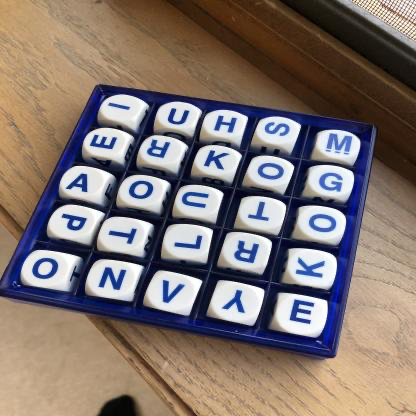a: (63, 169, 106, 199)
e: (278, 297, 328, 335), (86, 129, 129, 158)
g: (310, 166, 353, 198)
h: (203, 110, 246, 140)
i: (102, 96, 143, 122)
k: (289, 250, 337, 286), (196, 146, 240, 176)
l: (164, 225, 210, 260)
m: (316, 131, 361, 161)
n: (89, 261, 138, 298)
o: (24, 253, 70, 288), (299, 207, 346, 240), (120, 177, 165, 207), (249, 157, 292, 187)
p: (51, 206, 96, 240)
r: (223, 234, 271, 270), (141, 137, 185, 167)
s: (257, 118, 300, 146)
t: (100, 218, 148, 253), (241, 198, 287, 230)
u: (177, 186, 220, 218), (159, 103, 200, 129)
v: (150, 275, 196, 311)
y: (214, 283, 264, 323)
